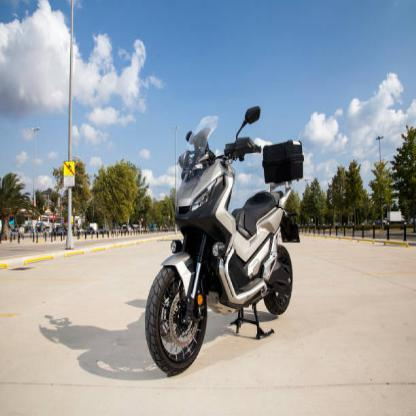Motorcycle: (139, 103, 299, 379)
